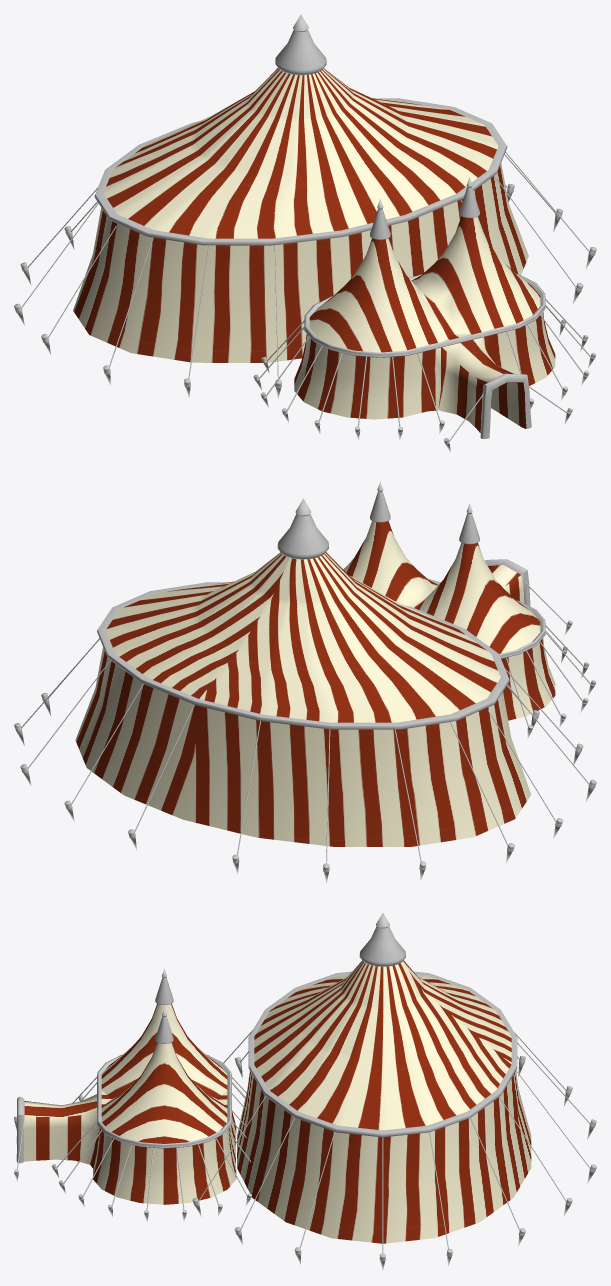
The model's file is Tritop_LOD.fbx.
3 views of the same model, one above another, from view 1: azimuth 30°, elevation 25°; view 2: azimuth 150°, elevation 25°; view 3: azimuth 270°, elevation 25° (orthographic). The views are drawn at different scales.
Parts seen in each view (by area): view 1: BigTop_LOD_0; view 2: BigTop_LOD_0; view 3: BigTop_LOD_0.
Boxes of the visible parts, x1,y1,x2,y2 form: BigTop_LOD_0: (14,14,596,452); BigTop_LOD_0: (14,481,596,882); BigTop_LOD_0: (14,913,596,1270).
Size of what is drawn, in the model's own units: 13873 by 7137 by 15108.
